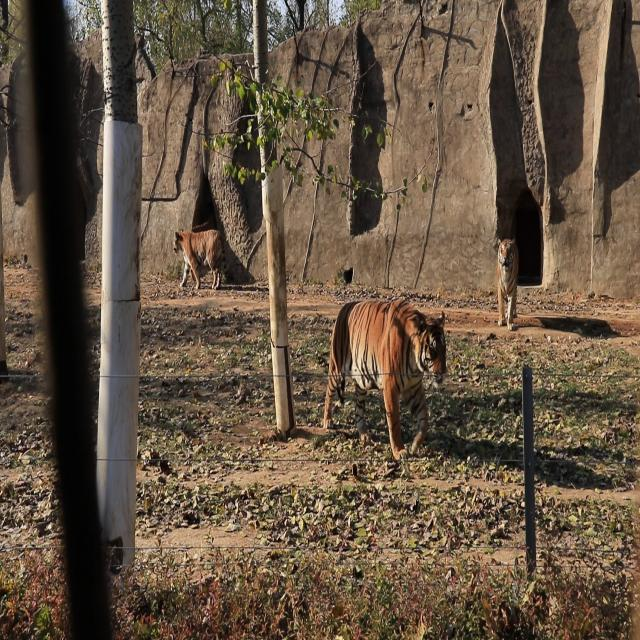Tiger: (314, 287, 456, 479), (172, 224, 230, 288), (495, 235, 521, 332)
